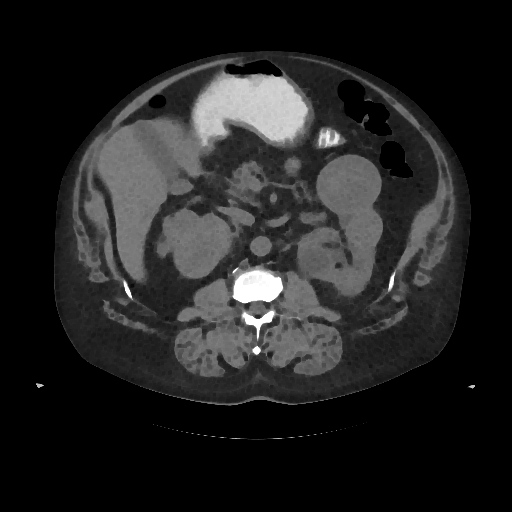Lesion: (315, 154, 383, 212)
